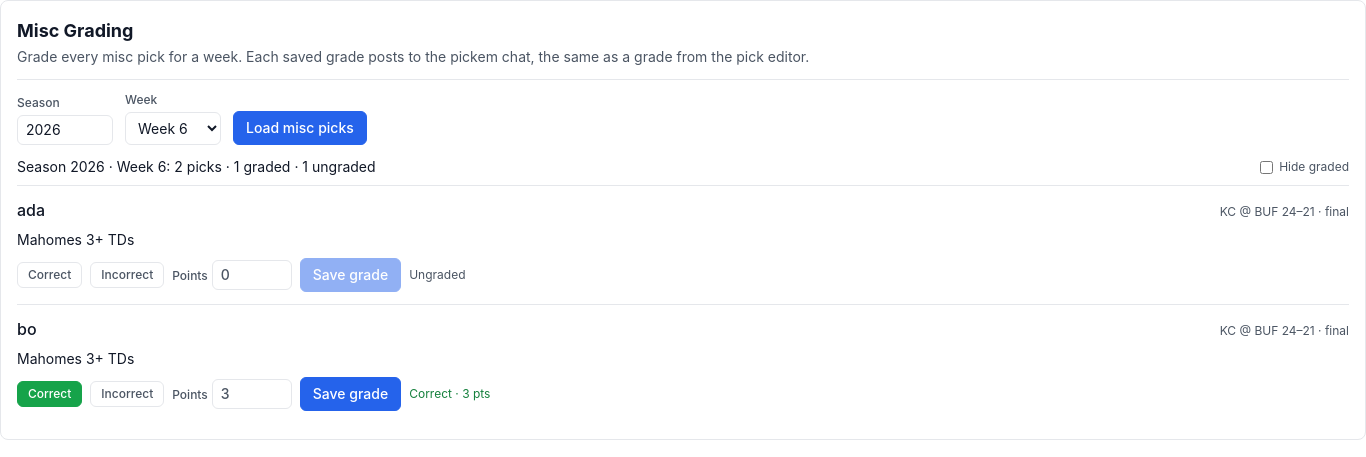
Test: MiscGradingPanel › hides graded rows on request
Expected: the text "Season 2026 · Week 6: 2 picks · 1 graded · 1 ungraded" is shown, [17,157,376,177]
Expected: the number of list items with test id "misc-grade-row" is 2, [17,185,1349,304]; [17,304,1349,423]
Step 1. Click the checkbox labelled "Hide graded" → (1267, 167), box [1260,160,1273,174]
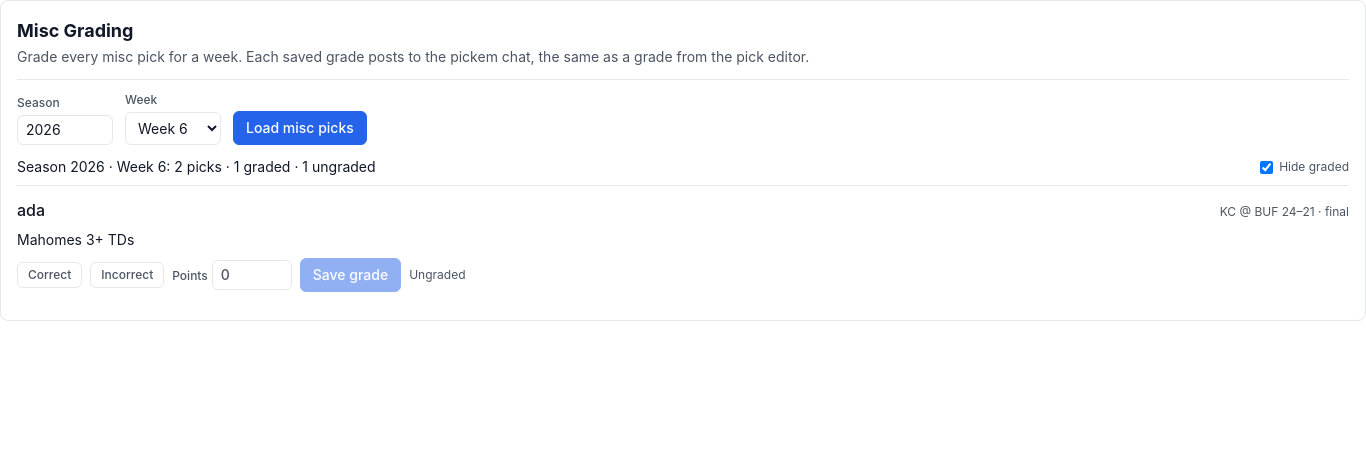
Expected: the number of list items with test id "misc-grade-row" is 1, [17,185,1349,304]
